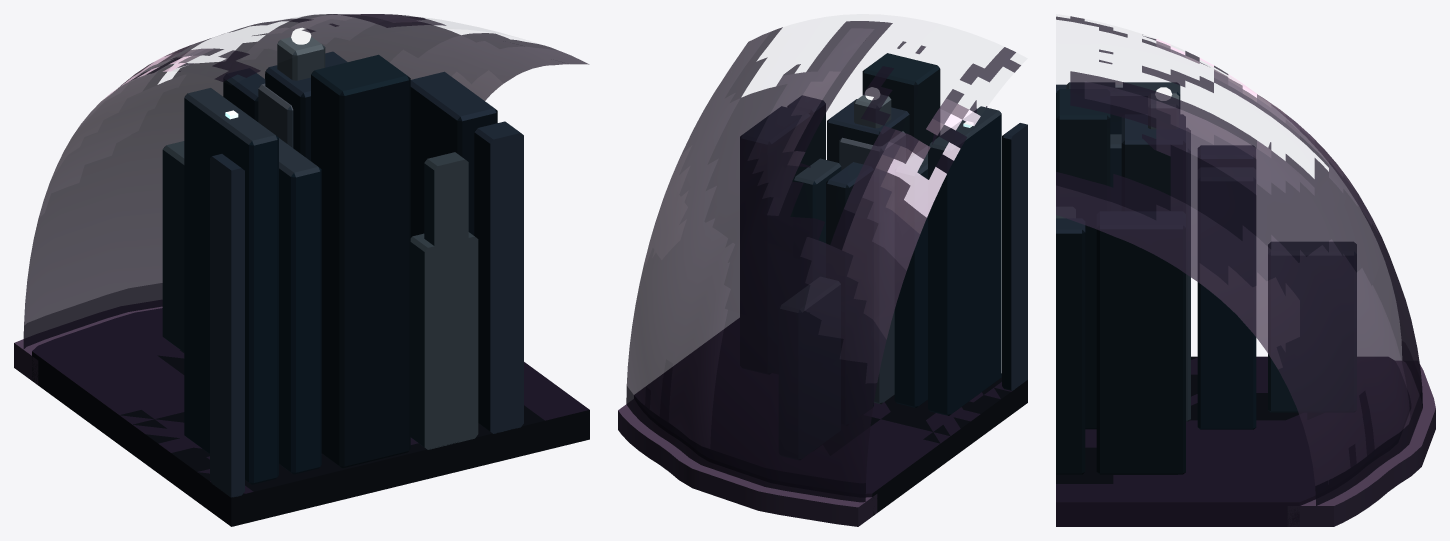
Rendered from purple_dome_tc.glb.
3 views of the same model, side by side, from view 1: azimuth 30°, elevation 25°; view 2: azimuth 150°, elevation 25°; view 3: azimuth 270°, elevation 25° (orthographic). The views are drawn at different scales.
Visible parts, largest first — view 1: purple_dome_tc_glassshell, purple_dome_tc_bd_tower124, purple_dome_tc_floor, purple_dome_tc_bd_tower74, purple_dome_tc_bd_tower131, purple_dome_tc_bd_tower130, purple_dome_tc_bd_tower75, purple_dome_tc_bd_tower70, purple_dome_tc_bd_tower133, purple_dome_tc_bd_tower136, purple_dome_tc_bd_tower130_top, purple_dome_tc_bd_tower125 (+4 smaller); view 2: purple_dome_tc_glassshell, purple_dome_tc_floor, purple_dome_tc_bd_tower74, purple_dome_tc_bd_tower133, purple_dome_tc_bd_tower136, purple_dome_tc_bd_tower134, purple_dome_tc_bd_tower75, purple_dome_tc_collar, purple_dome_tc_bd_tower70, purple_dome_tc_bd_spire, purple_dome_tc_bd_tower124, purple_dome_tc_bd_tower135 (+3 smaller); view 3: purple_dome_tc_glassshell, purple_dome_tc_floor, purple_dome_tc_bd_tower133, purple_dome_tc_bd_tower135, purple_dome_tc_bd_tower136, purple_dome_tc_bd_tower124, purple_dome_tc_bd_tower131, purple_dome_tc_bd_tower125, purple_dome_tc_collar, purple_dome_tc_bd_tower74, purple_dome_tc_bd_spire, purple_dome_tc_bd_tower134 (+2 smaller).
Boxes of the visible parts, left/top/right/bottom form: purple_dome_tc_glassshell: left=23, top=14, right=589, bottom=348; purple_dome_tc_bd_tower124: left=311, top=54, right=410, bottom=467; purple_dome_tc_floor: left=32, top=308, right=589, bottom=526; purple_dome_tc_bd_tower74: left=184, top=88, right=278, bottom=484; purple_dome_tc_bd_tower131: left=474, top=121, right=523, bottom=433; purple_dome_tc_bd_tower130: left=410, top=232, right=478, bottom=449; purple_dome_tc_bd_tower75: left=279, top=138, right=321, bottom=474; purple_dome_tc_bd_tower70: left=210, top=154, right=244, bottom=497; purple_dome_tc_bd_tower133: left=410, top=71, right=497, bottom=237; purple_dome_tc_bd_tower136: left=162, top=141, right=184, bottom=352; purple_dome_tc_bd_tower130_top: left=424, top=152, right=468, bottom=248; purple_dome_tc_bd_tower125: left=265, top=51, right=347, bottom=160; purple_dome_tc_glassshell: left=626, top=21, right=1020, bottom=502; purple_dome_tc_floor: left=634, top=318, right=1027, bottom=515; purple_dome_tc_bd_tower74: left=928, top=106, right=1001, bottom=415; purple_dome_tc_bd_tower133: left=740, top=106, right=810, bottom=374; purple_dome_tc_bd_tower136: left=779, top=277, right=840, bottom=459; purple_dome_tc_bd_tower134: left=826, top=162, right=873, bottom=425; purple_dome_tc_bd_tower75: left=894, top=145, right=927, bottom=407; purple_dome_tc_collar: left=618, top=400, right=877, bottom=526; purple_dome_tc_bd_tower70: left=1002, top=123, right=1027, bottom=390; purple_dome_tc_bd_spire: left=839, top=131, right=905, bottom=404; purple_dome_tc_bd_tower124: left=862, top=53, right=940, bottom=157; purple_dome_tc_bd_tower135: left=793, top=158, right=841, bottom=295; purple_dome_tc_glassshell: left=1056, top=16, right=1422, bottom=505; purple_dome_tc_floor: left=1056, top=356, right=1410, bottom=526; purple_dome_tc_bd_tower133: left=1096, top=211, right=1185, bottom=474; purple_dome_tc_bd_tower135: left=1197, top=167, right=1256, bottom=429; purple_dome_tc_bd_tower136: left=1268, top=242, right=1356, bottom=412; purple_dome_tc_bd_tower124: left=1056, top=89, right=1110, bottom=429; purple_dome_tc_bd_tower131: left=1056, top=218, right=1085, bottom=474; purple_dome_tc_bd_tower125: left=1121, top=114, right=1185, bottom=213; purple_dome_tc_collar: left=1287, top=361, right=1435, bottom=526; purple_dome_tc_bd_tower74: left=1066, top=82, right=1180, bottom=134; purple_dome_tc_bd_spire: left=1186, top=128, right=1190, bottom=421; purple_dome_tc_bd_tower134: left=1198, top=145, right=1255, bottom=168.
Bounding box in the file's own units: 23.98 × 29.28 × 26.44.
